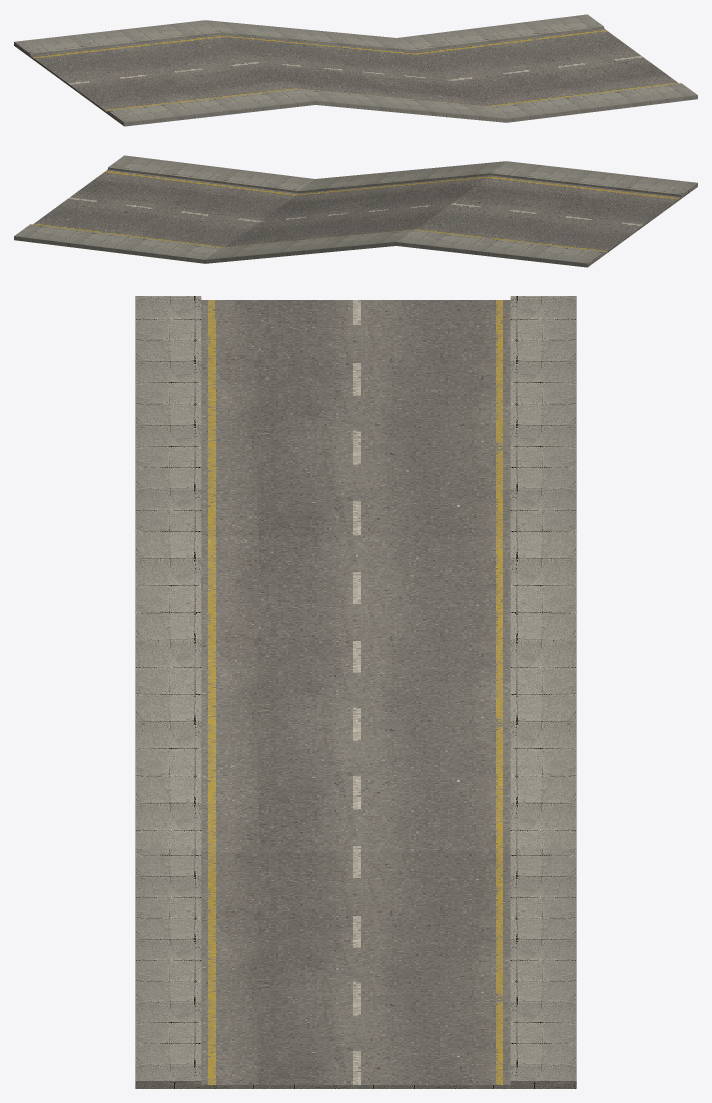
The model's file is road_1_slope.glb.
3 renders of one model, top to bottom at view 1: azimuth 30°, elevation 25°; view 2: azimuth 150°, elevation 25°; view 3: azimuth 270°, elevation 25°, orthographic. The views are drawn at different scales.
Visible parts, largest first — view 1: road_1_slope; view 2: road_1_slope; view 3: road_1_slope.
Part boxes in pixels (bbox=[...]): road_1_slope: bbox=[14, 14, 697, 126]; road_1_slope: bbox=[14, 155, 697, 267]; road_1_slope: bbox=[135, 296, 576, 1088].
Bounding box in the file's own units: 48 × 9.32 × 16.
Materials: 2 (2 with a texture image).
